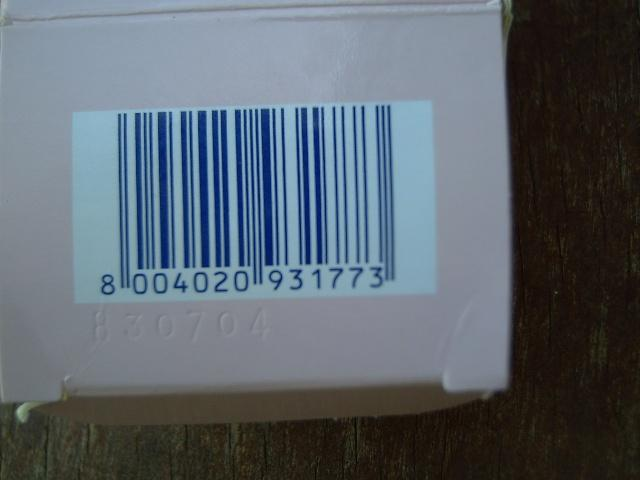Barcode: (73, 99, 437, 305)
